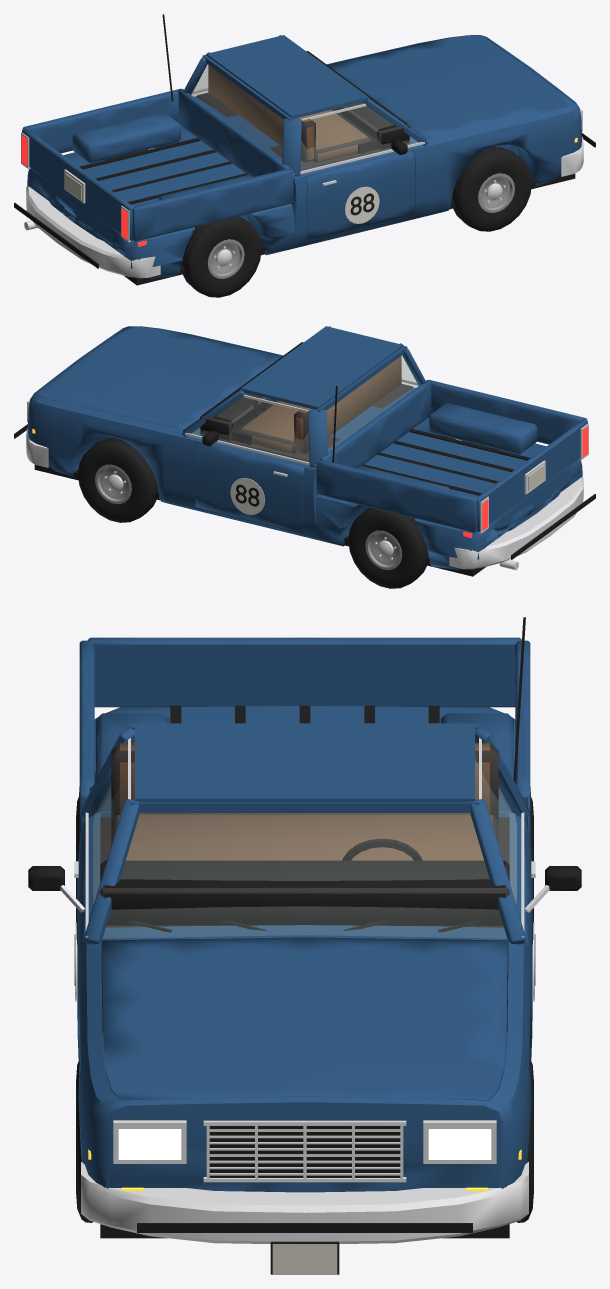
The model's file is car_pickup.glb.
The picture shows the model from 3 angles, top to bottom: view 1: azimuth 30°, elevation 25°; view 2: azimuth 150°, elevation 25°; view 3: azimuth 270°, elevation 25°; orthographic projection. The views are drawn at different scales.
Parts seen in each view (by area): view 1: body, bed, hood, interior, glass, roof, door_R, wheel_FR, wheel_RR, bumper_R, pillars, bed_ribs (+7 smaller); view 2: body, bed, hood, interior, glass, roof, door_L, wheel_FL, wheel_RL, bumper_R, pillars, bed_ribs (+7 smaller); view 3: hood, interior, body, glass, bed, roof, bumper_F, black_details, pillars, chrome_details, headlamps, bumper_F_rubber (+5 smaller).
Part boxes in pixels (box(x1,y1,x2,y2)): body: box(27, 35, 581, 278); bed: box(22, 88, 293, 241); hood: box(328, 35, 573, 139); interior: box(197, 51, 410, 170); glass: box(191, 65, 418, 170); roof: box(206, 35, 368, 118); door_R: box(305, 150, 415, 242); wheel_FR: box(452, 147, 531, 231); wheel_RR: box(181, 216, 261, 297); bumper_R: box(26, 185, 160, 278); pillars: box(179, 35, 428, 176); bed_ribs: box(79, 138, 247, 204); body: box(28, 326, 582, 569); bed: box(316, 380, 587, 532); hood: box(36, 326, 282, 430); interior: box(199, 342, 412, 461); glass: box(191, 356, 418, 461); roof: box(241, 326, 403, 409); door_L: box(194, 441, 304, 533); wheel_FL: box(78, 438, 157, 522); wheel_RL: box(348, 507, 428, 588); bumper_R: box(449, 476, 583, 569); pillars: box(182, 326, 430, 467); bed_ribs: box(362, 429, 530, 495); hood: box(102, 937, 507, 1100); interior: box(100, 743, 509, 927); body: box(77, 706, 532, 1192); glass: box(93, 758, 516, 938); bed: box(79, 637, 530, 835); roof: box(135, 723, 474, 802); bumper_F: box(81, 1162, 528, 1243); black_details: box(28, 617, 581, 1274); pillars: box(79, 722, 530, 944); chrome_details: box(60, 861, 549, 1182); headlamps: box(118, 1129, 491, 1159); bumper_F_rubber: box(137, 1223, 472, 1232).
Size of the model in its own units: 5.36 by 1.95 by 2.57.
